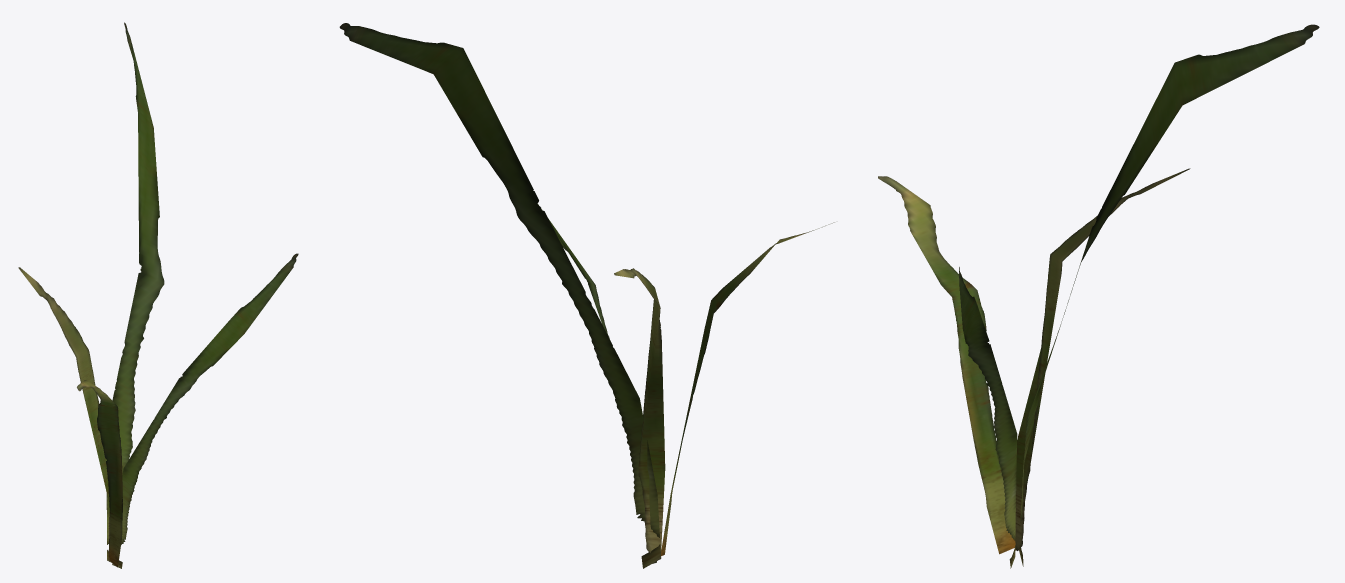
The model's file is grass_medium_01_tiny_a.gltf.
3 renders of one model, left to right at view 1: azimuth 30°, elevation 25°; view 2: azimuth 150°, elevation 25°; view 3: azimuth 270°, elevation 25°, orthographic. The views are drawn at different scales.
Parts seen in each view (by area): view 1: grass_medium_01_tiny_a__x; view 2: grass_medium_01_tiny_a__x; view 3: grass_medium_01_tiny_a__x.
Part boxes in pixels (bbox=[...]): grass_medium_01_tiny_a__x: bbox=[18, 22, 298, 568]; grass_medium_01_tiny_a__x: bbox=[339, 23, 834, 568]; grass_medium_01_tiny_a__x: bbox=[878, 24, 1319, 568].
Bounding box in the file's own units: 0.0681 × 0.1136 × 0.0748.
Materials: 1 (1 with a texture image).
